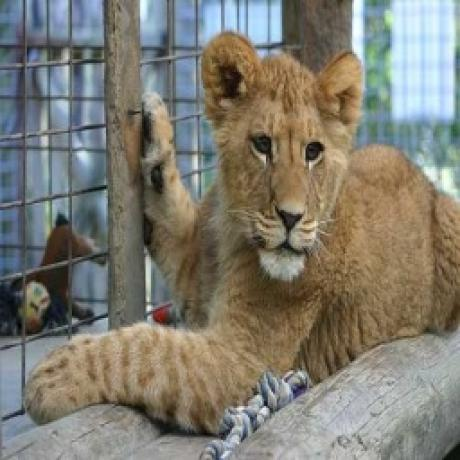Lion: (31, 25, 460, 445)
